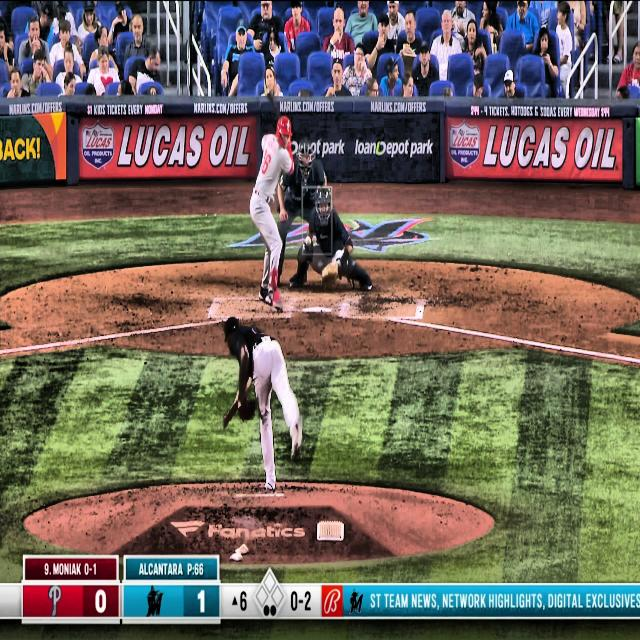baseball: (305, 235, 312, 247)
